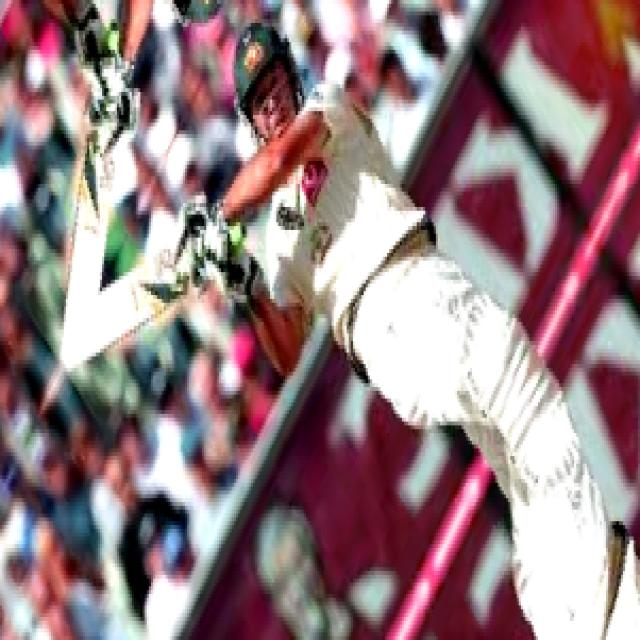toe: (56, 317, 93, 368)
